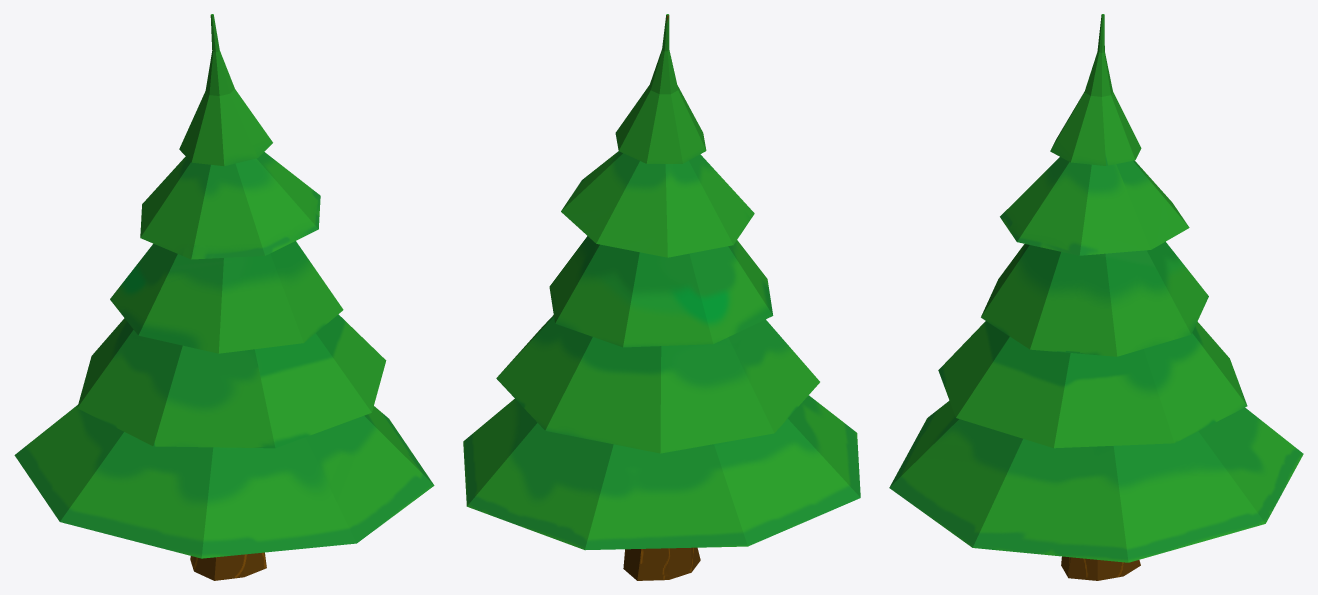
File: pinetree 1.fbx
The picture shows the model from 3 angles, left to right: view 1: azimuth 30°, elevation 25°; view 2: azimuth 150°, elevation 25°; view 3: azimuth 270°, elevation 25°; orthographic projection.
Visible parts, largest first — view 1: Cone.004; view 2: Cone.004; view 3: Cone.004.
Part boxes in pixels (x1,y1,x2,y2): Cone.004: (14, 14, 434, 580); Cone.004: (463, 14, 860, 580); Cone.004: (889, 14, 1303, 580).
Size of the model in its own units: 328 by 476 by 328.
1 material, 1 textured.
